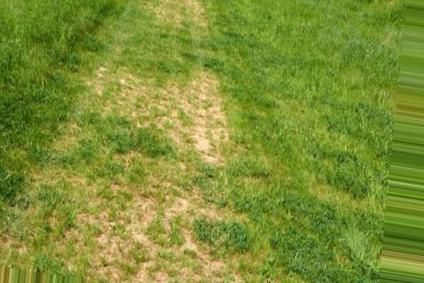patch: (108, 212, 190, 282), (134, 85, 211, 137), (163, 196, 206, 212), (193, 141, 218, 157)
